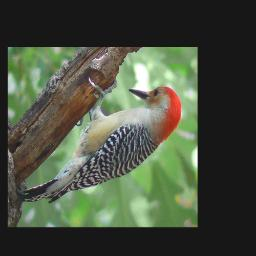Woodpecker: (18, 76, 185, 207)
